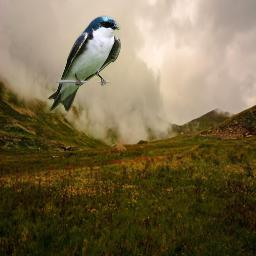Swallow: (46, 15, 121, 113)
